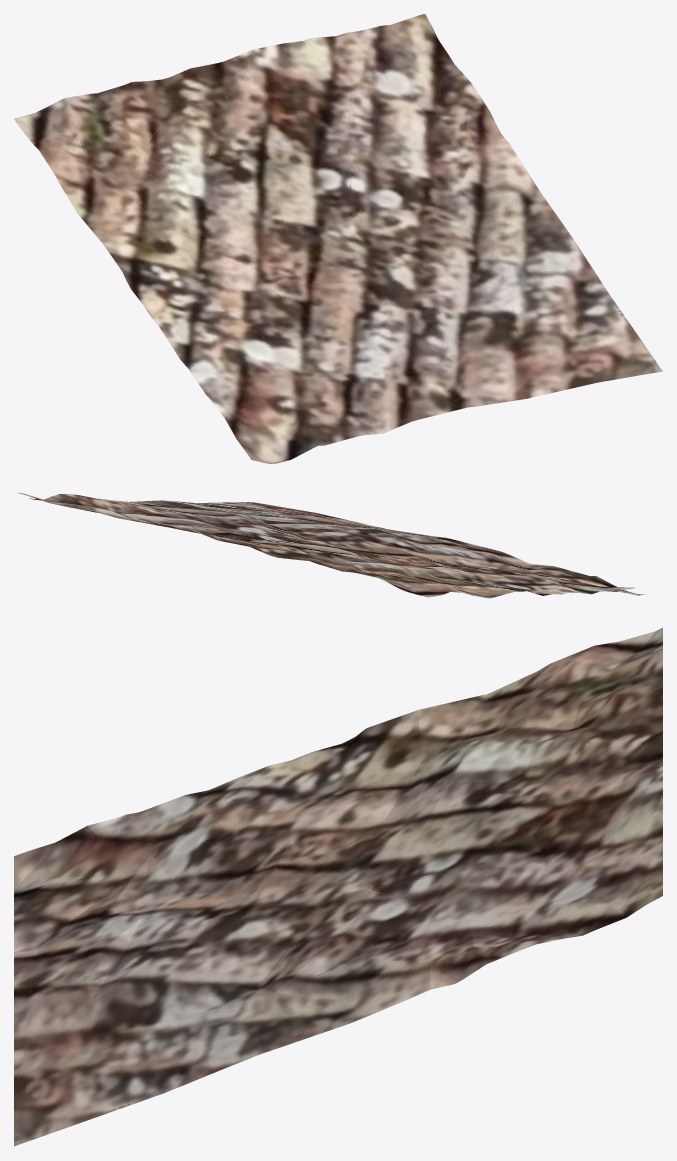
3 renders of one model, top to bottom at view 1: azimuth 30°, elevation 25°; view 2: azimuth 150°, elevation 25°; view 3: azimuth 270°, elevation 25°, orthographic. The views are drawn at different scales.
Size of the model in its own units: 1.67 by 0.739 by 1.67.
Materials: 3 (3 with a texture image).
